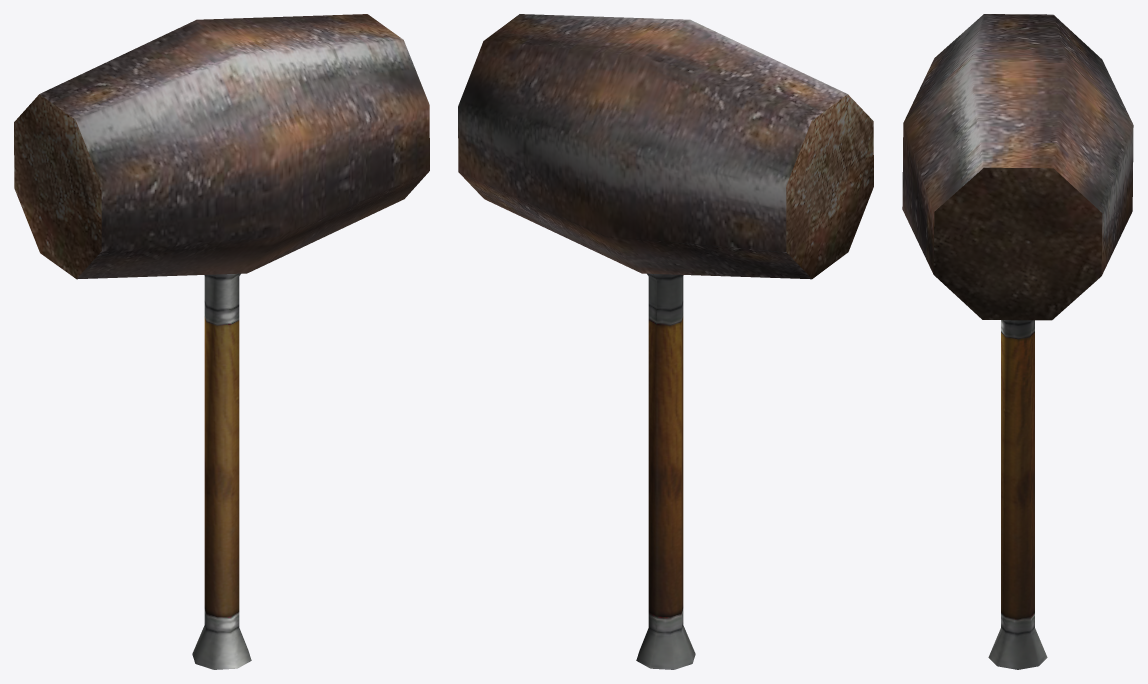
Rendered from hanmer.fbx.
3 renders of one model, left to right at view 1: azimuth 30°, elevation 25°; view 2: azimuth 150°, elevation 25°; view 3: azimuth 270°, elevation 25°, orthographic. The views are drawn at different scales.
Visible parts, largest first — view 1: hanmer; view 2: hanmer; view 3: hanmer.
Boxes of the visible parts, x1,y1,x2,y2 form: hanmer: (14, 14, 429, 669); hanmer: (458, 14, 873, 669); hanmer: (902, 14, 1133, 669).
Bounding box in the file's own units: 63.96 × 115 × 40.64.
